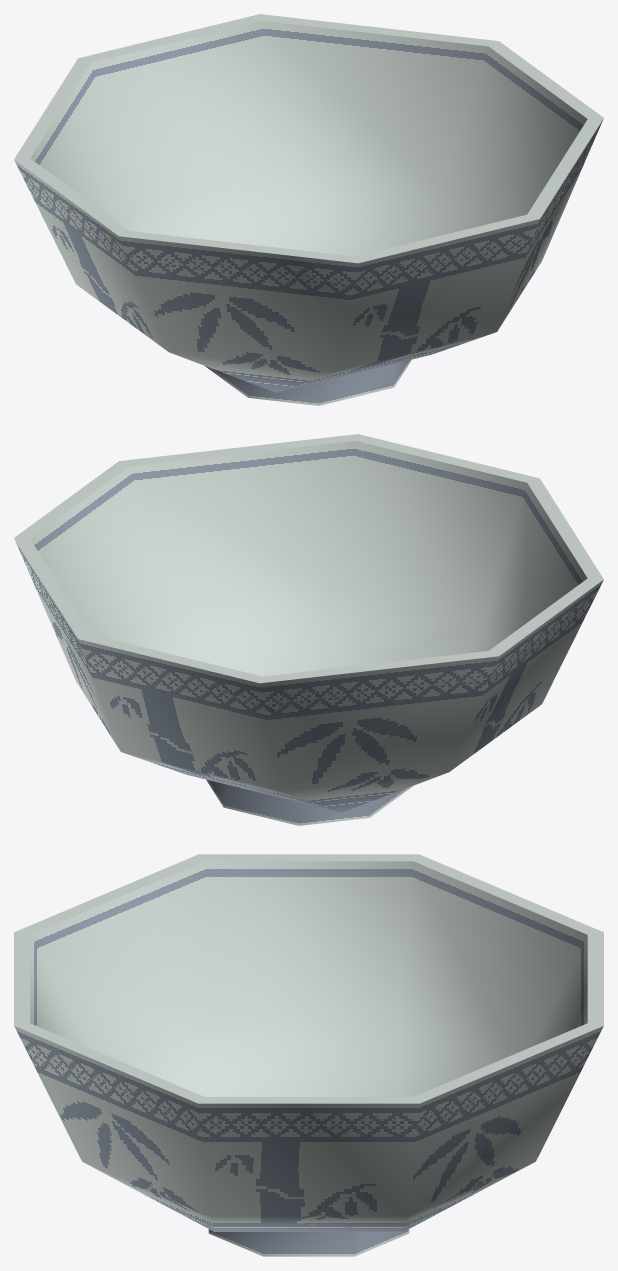
File: 0344_Dad_s_Rice_Bowl.glb
The picture shows the model from 3 angles, top to bottom: view 1: azimuth 30°, elevation 25°; view 2: azimuth 150°, elevation 25°; view 3: azimuth 270°, elevation 25°; orthographic projection. The views are drawn at different scales.
Visible parts, largest first — view 1: part_0; view 2: part_0; view 3: part_0.
Boxes of the visible parts, x1=… form: part_0: x1=14, y1=14, x2=603, y2=405; part_0: x1=14, y1=434, x2=603, y2=825; part_0: x1=14, y1=854, x2=603, y2=1256.
Bounding box in the file's own units: 0.1644 × 0.0723 × 0.1644.
1 material, 1 textured.
